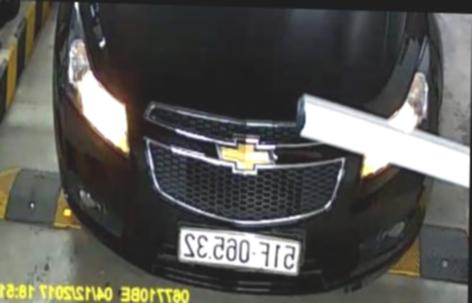License_Plate: (173, 226, 306, 281)
